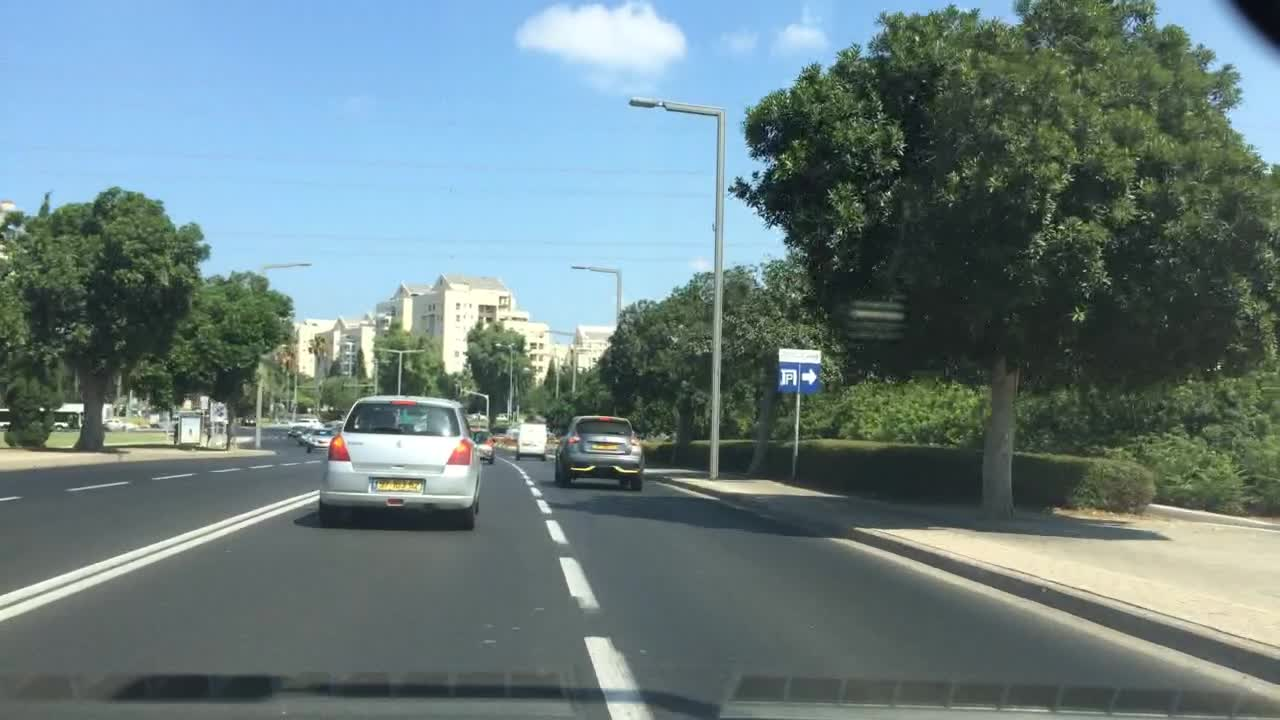bus: (0, 407, 74, 431)
car: (319, 395, 483, 528), (553, 414, 645, 490), (516, 422, 548, 460), (305, 429, 337, 455), (471, 430, 494, 463), (300, 426, 323, 444), (287, 426, 309, 438), (103, 419, 123, 431), (299, 416, 320, 426), (239, 415, 256, 426), (325, 421, 343, 430)
traffic sign: (777, 347, 823, 391)
